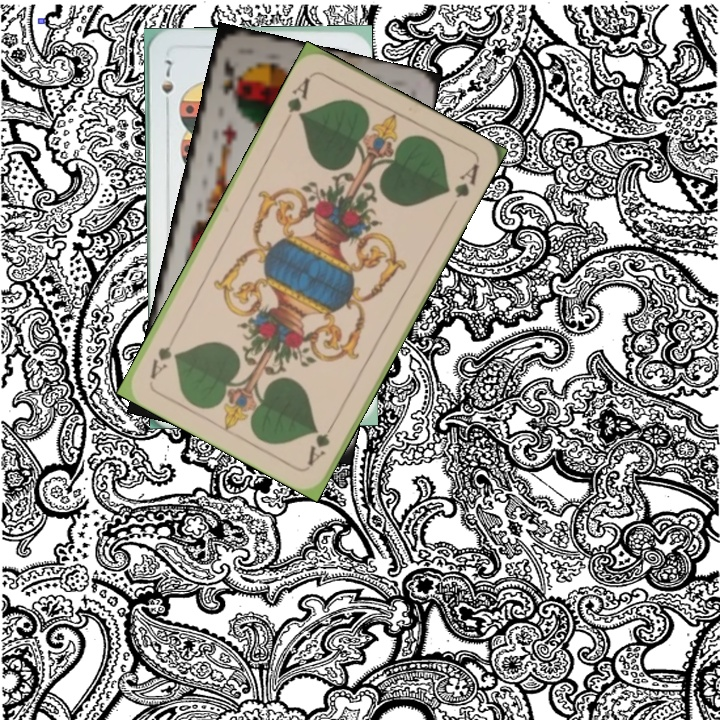GA: (303, 415, 340, 469), (280, 71, 316, 126)
S7: (157, 56, 176, 112)
SK: (218, 53, 240, 97)
